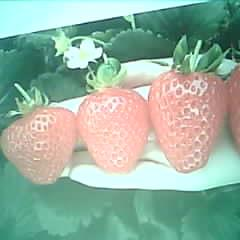straw-ripe: (149, 69, 227, 174), (77, 87, 149, 175), (0, 106, 76, 186)
